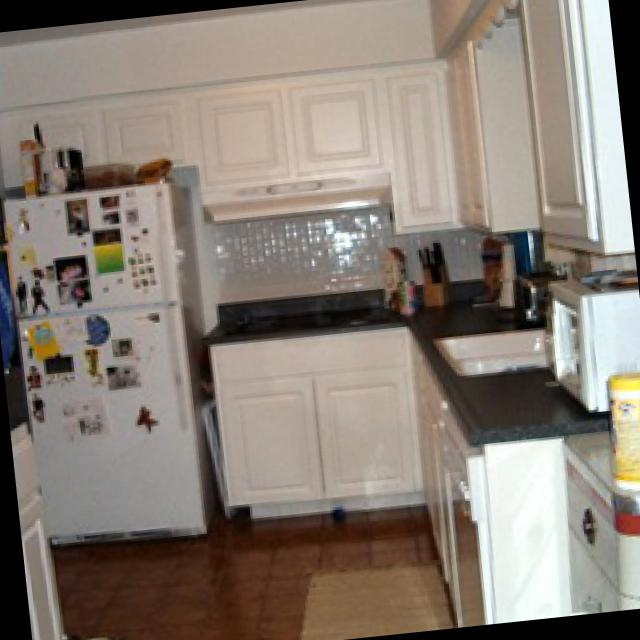2010: (474, 0, 506, 44)
bottles occluded: (46, 148, 91, 190)
cabinet door: (523, 0, 634, 250), (198, 77, 392, 186), (381, 58, 461, 229), (14, 415, 72, 640), (569, 440, 640, 608), (446, 28, 494, 229)
cabinets: (212, 324, 579, 622), (0, 85, 203, 192)
can: (401, 277, 417, 311)
counter bottom: (204, 275, 612, 440), (575, 428, 640, 495)
floor -X: (54, 506, 452, 640)
hood: (203, 174, 394, 220)
jar -X: (615, 374, 640, 481)
knife: (428, 261, 452, 301)
knives: (423, 237, 446, 270)
microwave oven: (554, 275, 640, 405)
paper: (506, 239, 516, 300)
pet bowl: (83, 631, 130, 640)
refrigerator: (5, 180, 225, 527)
rug -partially obscured-: (300, 559, 457, 636)
sink basin: (437, 324, 548, 372)
